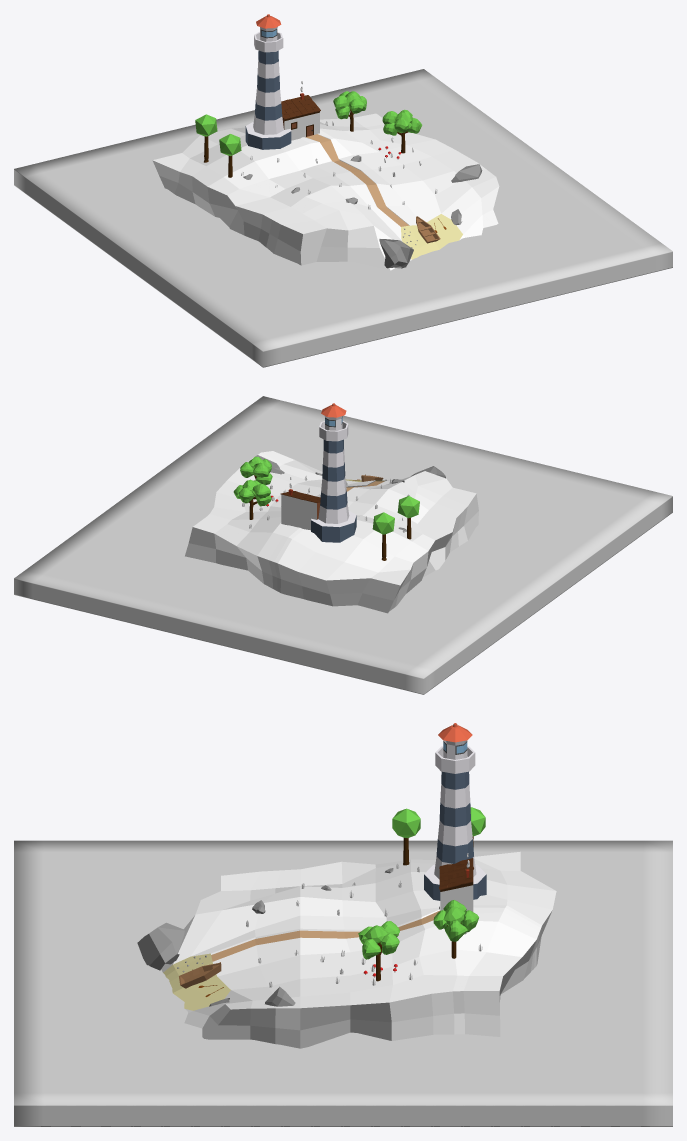
File: asset2.glb
3 renders of one model, top to bottom at view 1: azimuth 30°, elevation 25°; view 2: azimuth 150°, elevation 25°; view 3: azimuth 270°, elevation 25°, orthographic. The views are drawn at different scales.
Parts seen in each view (by area): view 1: Low Poly Lighthouse, Island, LightHouse, Rocks, House, SimpleTree02, SimpleTree, SmallTree02; view 2: Low Poly Lighthouse, Island, LightHouse, House, SimpleTree, SimpleTree02, SmallTree02, SmallTree; view 3: Low Poly Lighthouse, Island, LightHouse, Rocks, House, SimpleTree02, SimpleTree, SmallTree, Boat.
Part boxes in pixels (x1,y1,x2,y2): Low Poly Lighthouse: (14,69,672,367); Island: (152,113,499,270); LightHouse: (245,14,291,149); Rocks: (243,155,482,268); House: (281,93,320,140); SimpleTree02: (382,109,422,153); SimpleTree: (333,91,366,131); SmallTree02: (195,114,217,162); Low Poly Lighthouse: (14,396,672,694); Island: (185,451,478,613); LightHouse: (311,403,356,542); House: (280,489,320,530); SimpleTree: (233,479,271,519); SimpleTree02: (240,456,272,485); SmallTree02: (372,512,394,560); SmallTree: (397,496,419,539); Low Poly Lighthouse: (14,840,672,1126); Island: (161,851,556,1048); LightHouse: (424,723,486,900); Rocks: (137,868,393,1006); House: (439,858,473,911); SimpleTree02: (358,921,399,981); SimpleTree: (433,900,478,958); SmallTree: (392,808,420,865); Boat: (179,962,221,988).
Bounding box in the file's own units: 92.88 × 40.92 × 97.81.
